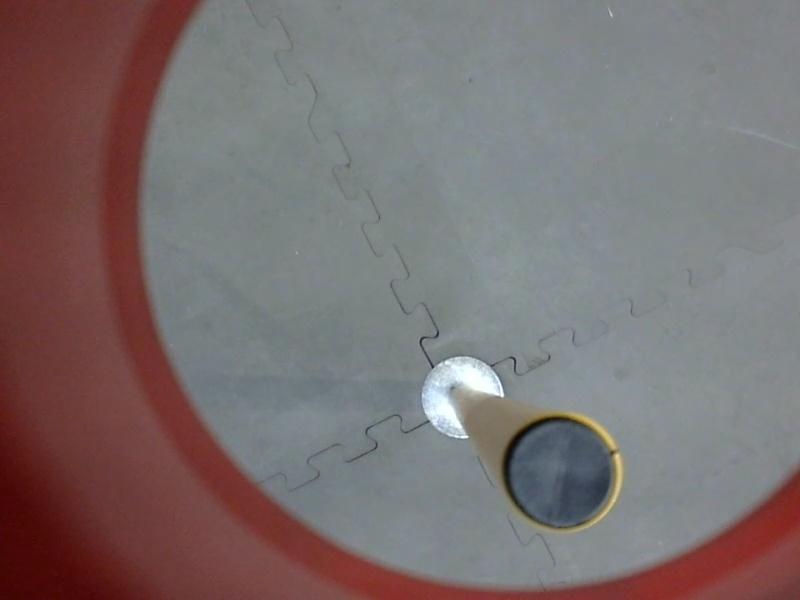tip: (490, 405, 633, 542)
